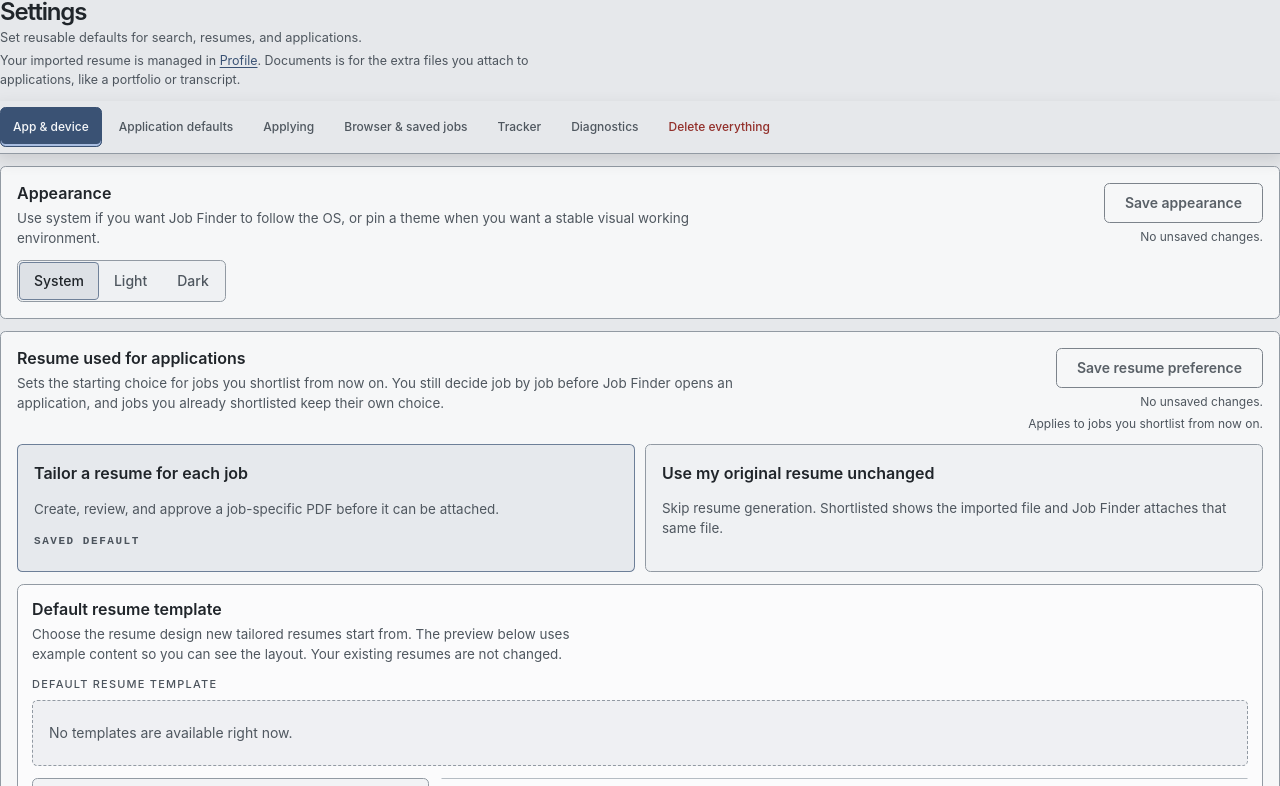
it: SettingsScreen scoped section saves › reports a resolved false resume-preference save as failed instead of saved
Click the radio button labelled "Use my original resume unchanged". click: (954, 508)
box: [645,444,1263,572]
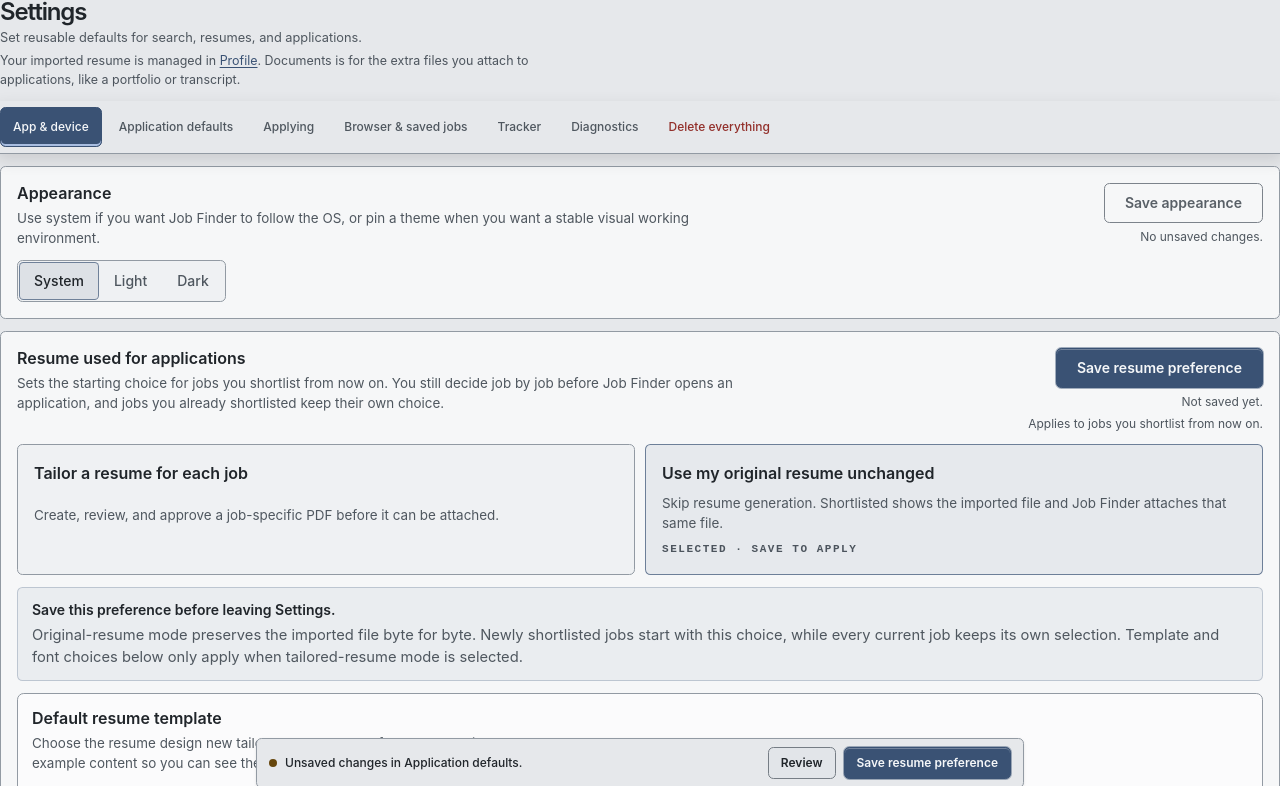
Click the button "Save resume preference" in the row of "Resume used for applications". click: (1159, 368)
box: [1056,348,1263,388]
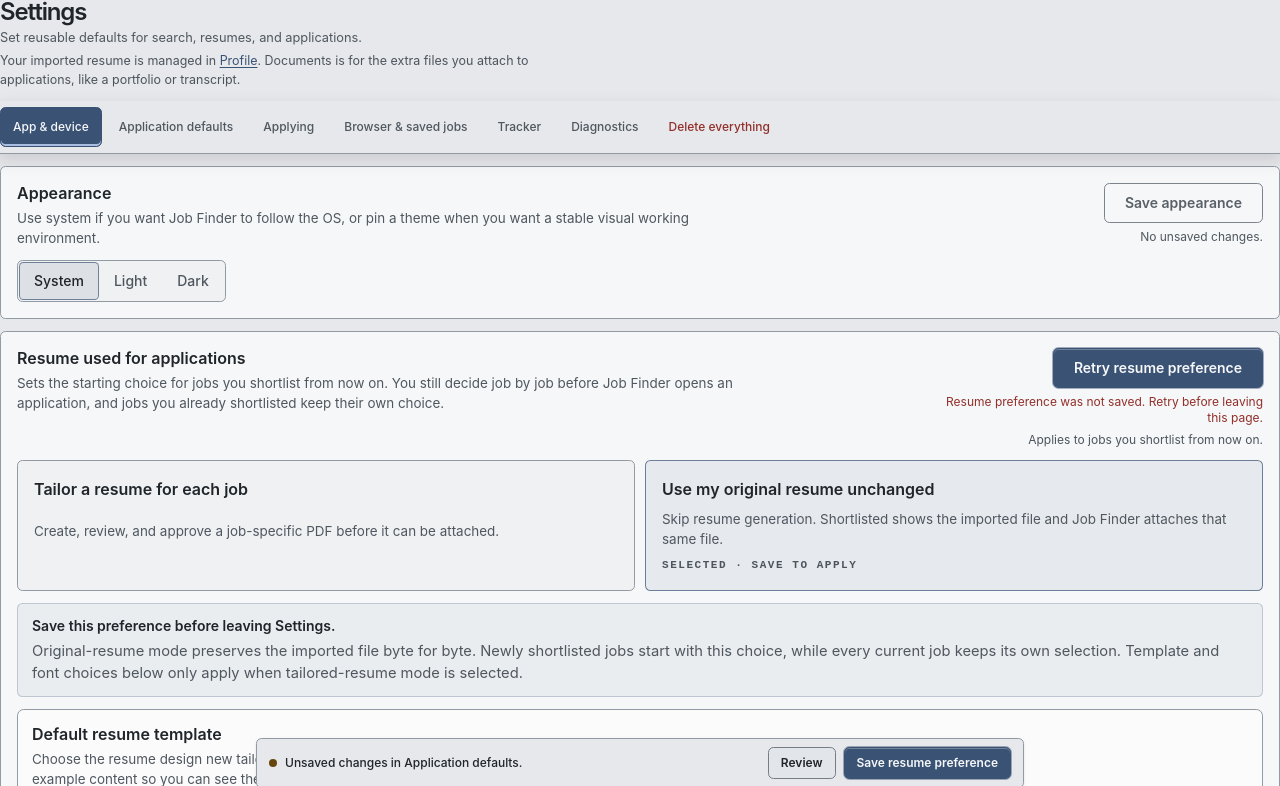
Expected: the button "Retry resume preference" is shown, [1053,348,1263,388]
Expected: the text "Resume preference was not saved. Retry before leaving this page." is shown, [943,394,1263,426]
